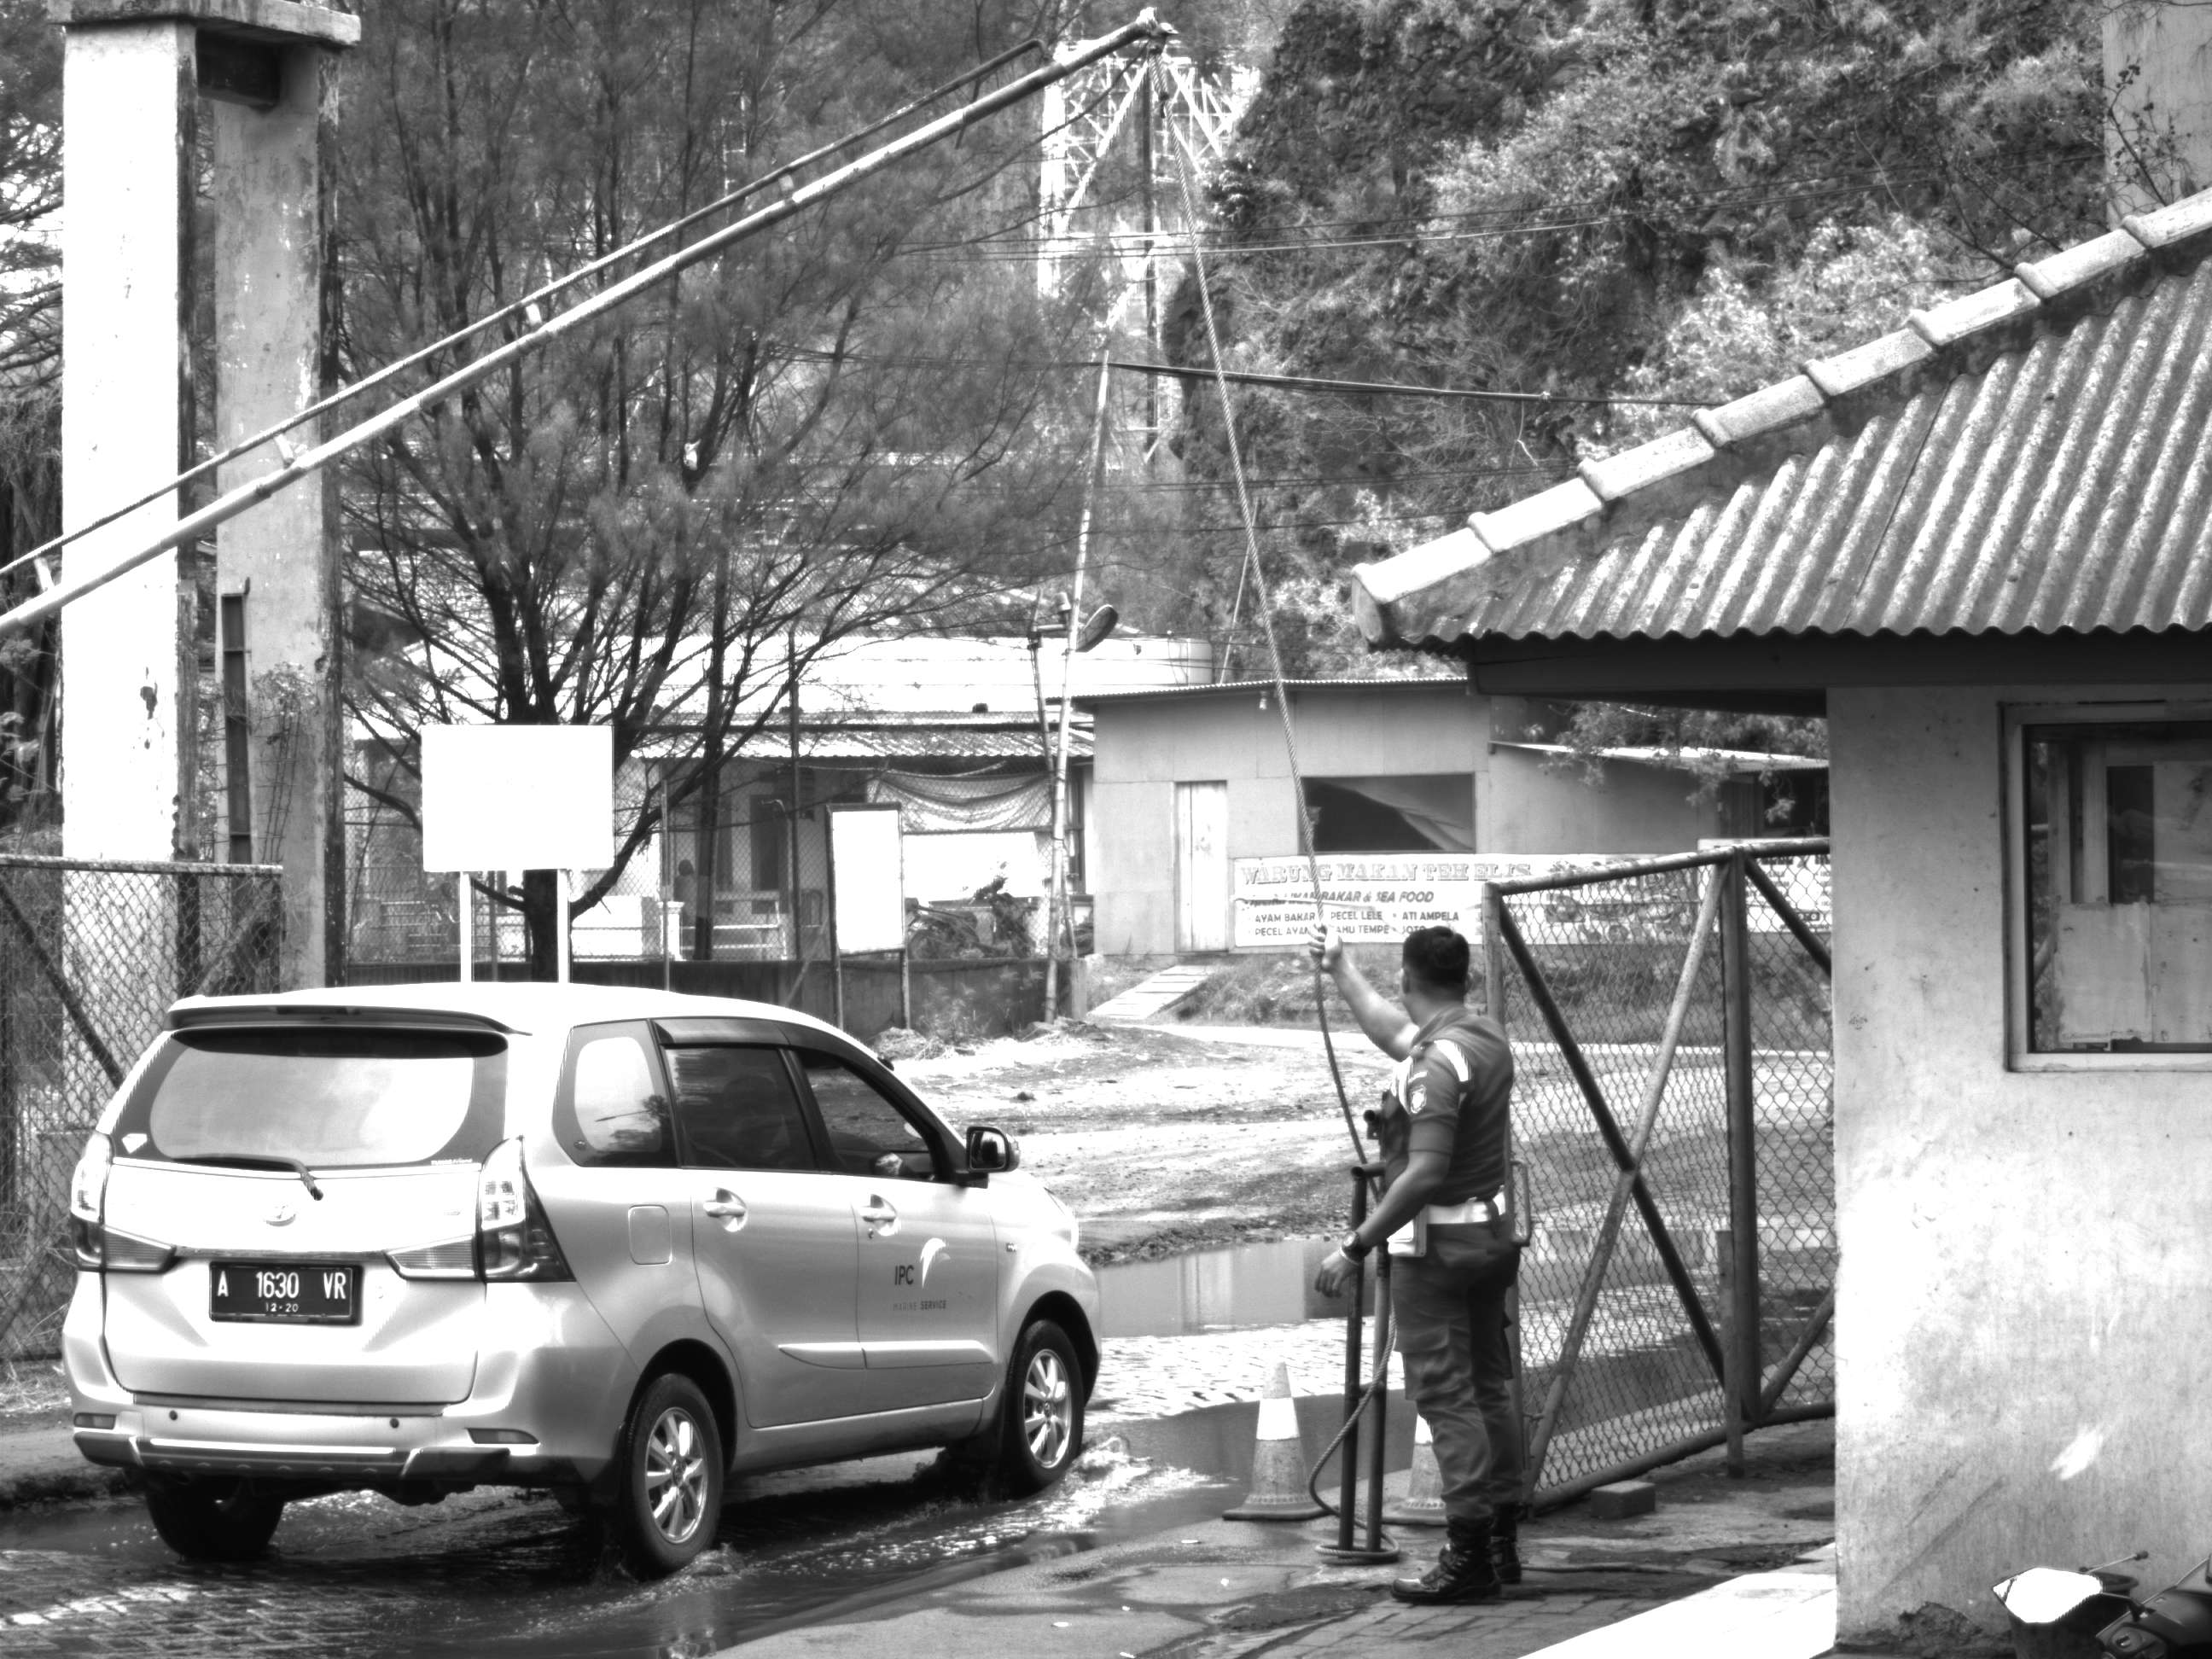day_small_rear: (55, 980, 751, 1580)
plate: (204, 1259, 368, 1329)
